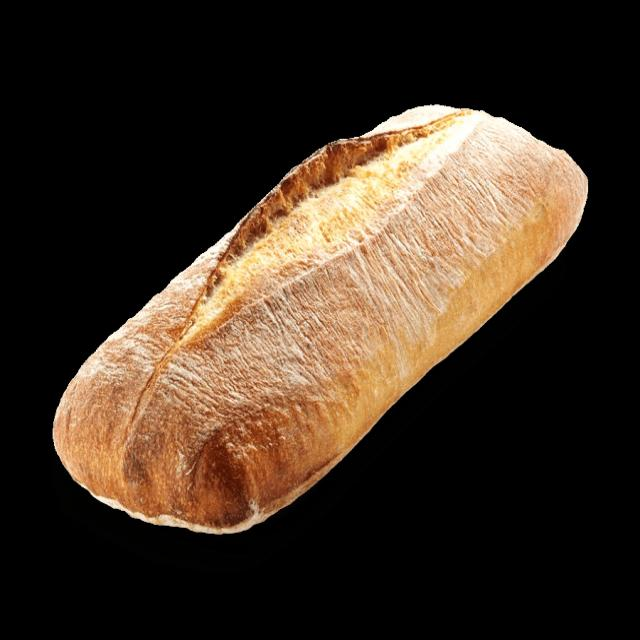Ciabatta: (54, 105, 587, 533)
